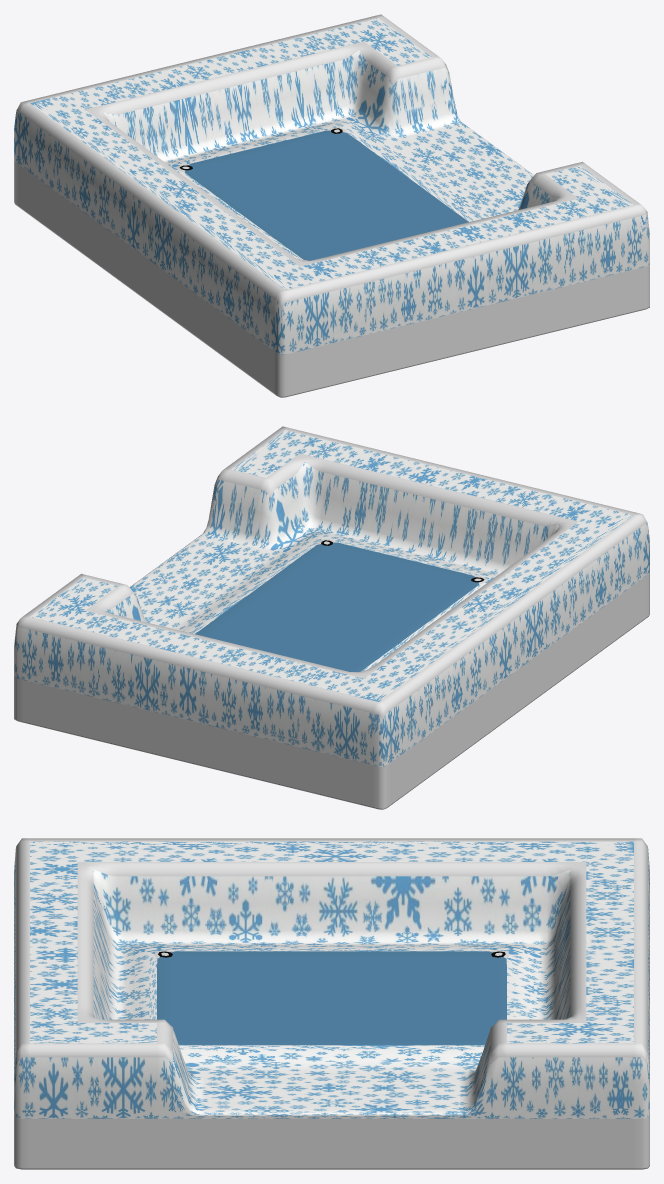
Rendered from SnowballBed.fbx.
The picture shows the model from 3 angles, top to bottom: view 1: azimuth 30°, elevation 25°; view 2: azimuth 150°, elevation 25°; view 3: azimuth 270°, elevation 25°; orthographic projection. The views are drawn at different scales.
Parts seen in each view (by area): view 1: pCube1; view 2: pCube1; view 3: pCube1.
Boxes of the visible parts, x1,y1,x2,y2 form: pCube1: (14,14,649,397); pCube1: (14,426,649,809); pCube1: (14,838,649,1169).
Bounding box in the file's own units: 8 × 2.1 × 10.
4 materials, 1 textured.
